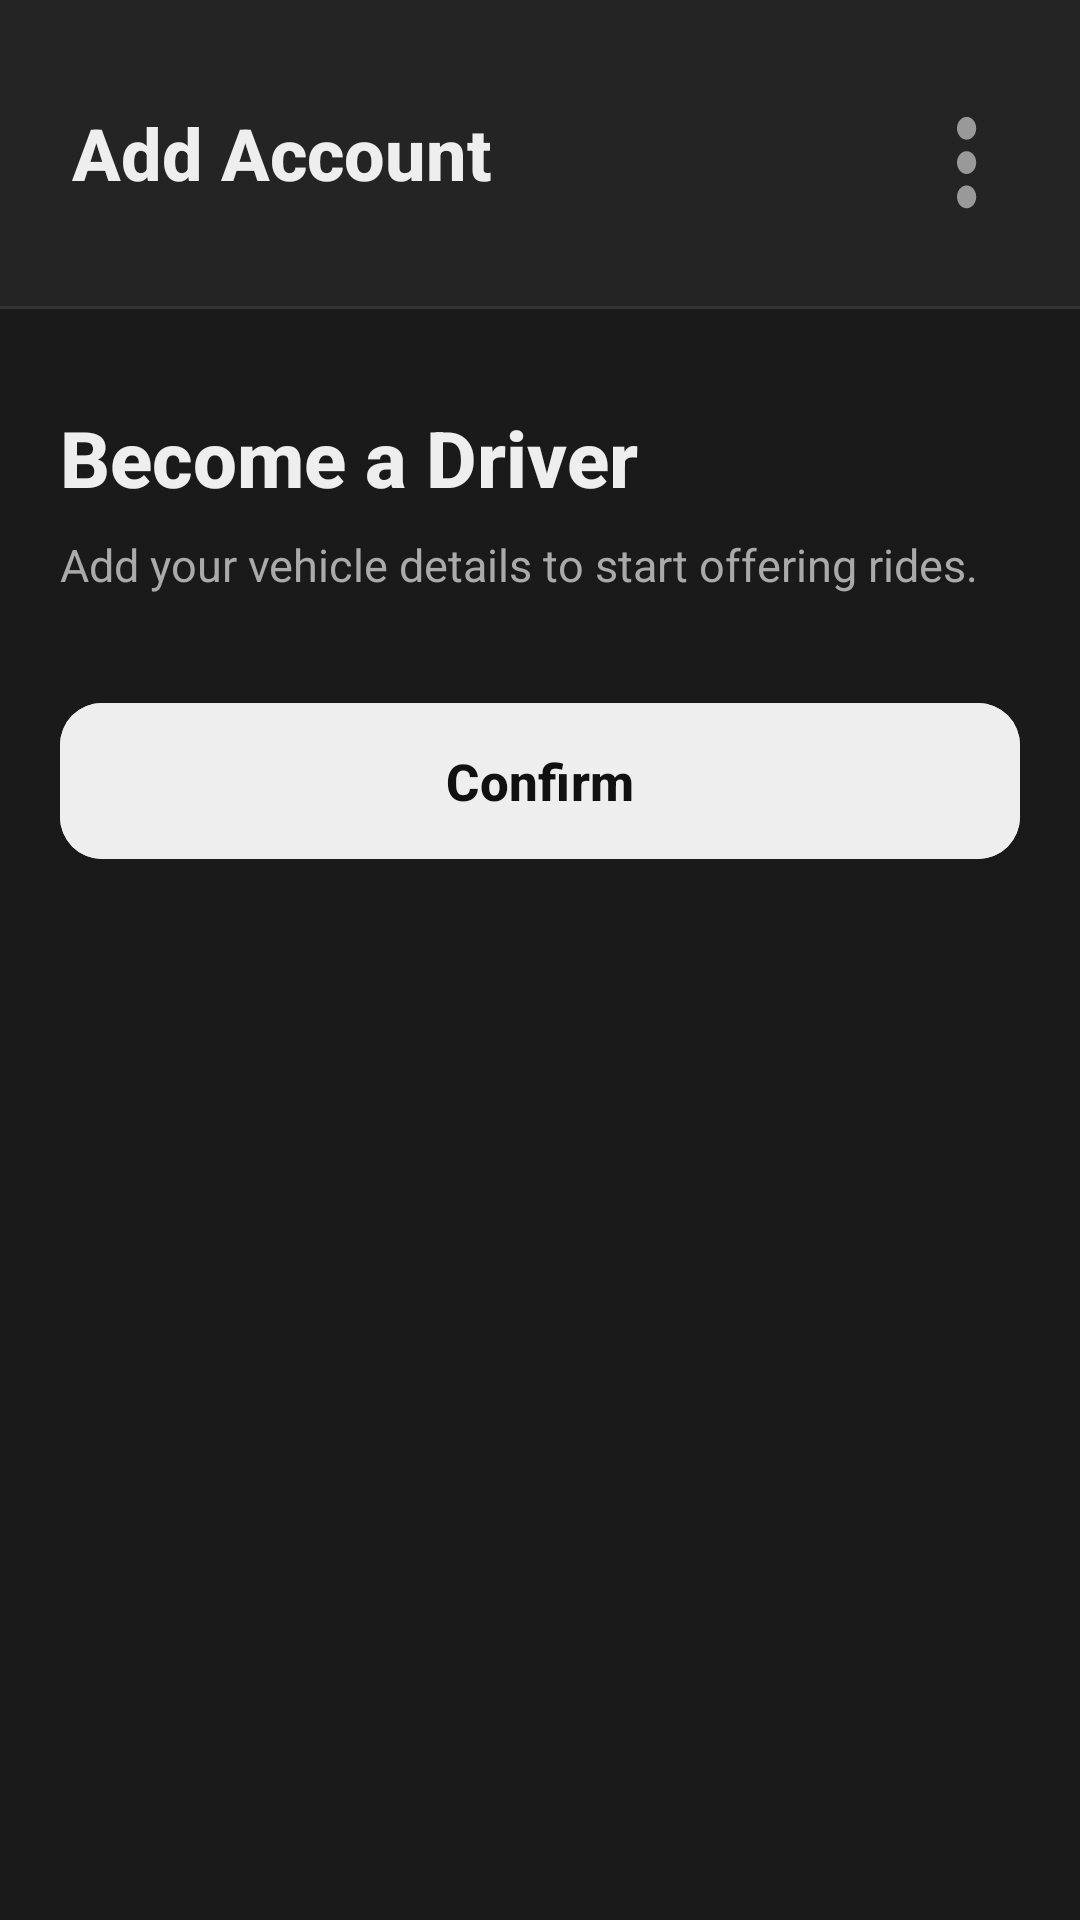

Named icons in this screenshot (1080x1920) and their centers, (x,y):
More options: (967,163)
